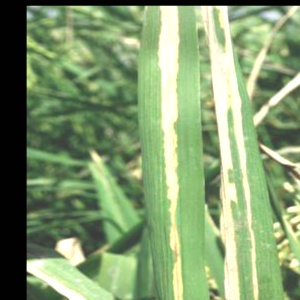Leaf_Blast: (200, 8, 276, 300), (136, 7, 207, 300)
